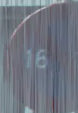No waiting: (12, 8, 70, 106)
